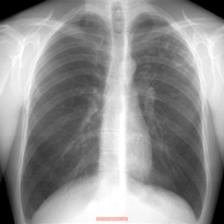tuberculosis: (14, 7, 210, 224)
